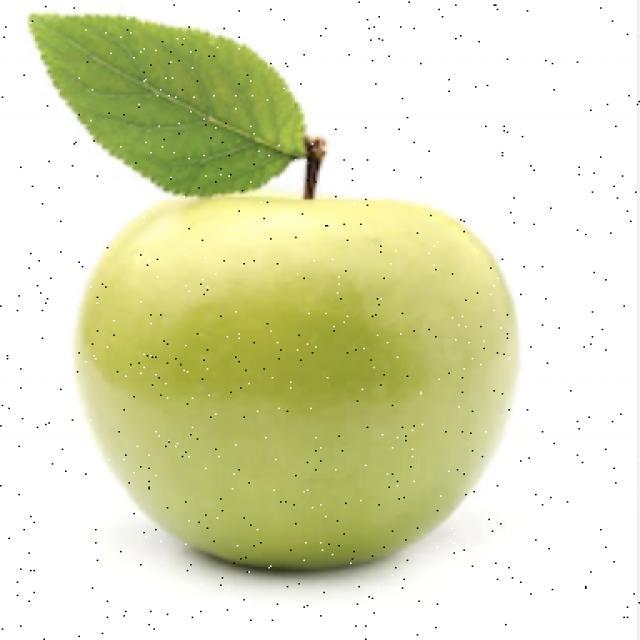Fresh Apple: (63, 200, 517, 572)
